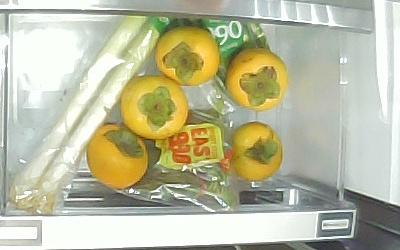persimmon: (120, 76, 189, 138), (226, 49, 290, 111), (87, 124, 148, 188), (155, 26, 220, 86), (231, 122, 283, 182)
